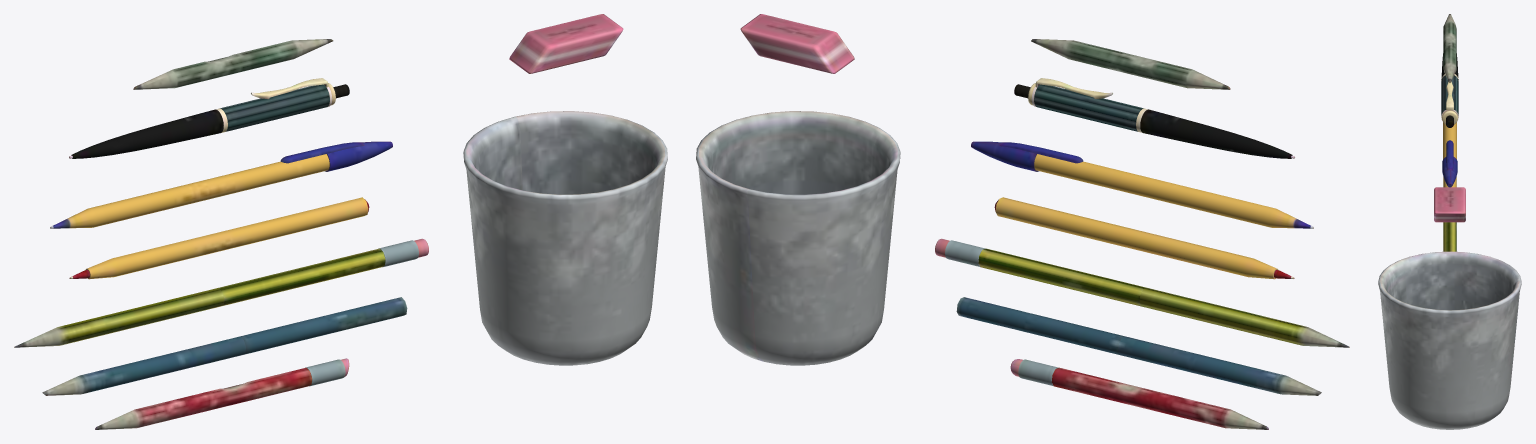
Rendered from stationery.glb.
3 renders of one model, left to right at view 1: azimuth 30°, elevation 25°; view 2: azimuth 150°, elevation 25°; view 3: azimuth 270°, elevation 25°, orthographic. The views are drawn at different scales.
Parts seen in each view (by area): view 1: stationery_supplies_pencilcup, stationery_supplies_pencil_new_a, stationery_supplies_pencil_new_b, stationery_supplies_pen_blue, stationery_supplies_pen_fancy, stationery_supplies_pen_red, stationery_supplies_pencil_used, stationery_supplies_eraser, stationery_supplies_pencil_old; view 2: stationery_supplies_pencilcup, stationery_supplies_pencil_new_a, stationery_supplies_pencil_new_b, stationery_supplies_pen_blue, stationery_supplies_pen_fancy, stationery_supplies_pen_red, stationery_supplies_pencil_used, stationery_supplies_eraser, stationery_supplies_pencil_old; view 3: stationery_supplies_pencilcup, stationery_supplies_eraser, stationery_supplies_pen_fancy, stationery_supplies_pen_blue, stationery_supplies_pencil_old, stationery_supplies_pencil_new_a.
Part boxes in pixels (box(x1,y1,x2,y2)): stationery_supplies_pencilcup: box(463, 111, 667, 365); stationery_supplies_pencil_new_a: box(14, 238, 428, 347); stationery_supplies_pencil_new_b: box(42, 297, 407, 395); stationery_supplies_pen_blue: box(50, 141, 392, 228); stationery_supplies_pen_fancy: box(69, 78, 349, 158); stationery_supplies_pen_red: box(69, 197, 369, 279); stationery_supplies_pencil_used: box(95, 358, 349, 429); stationery_supplies_eraser: box(509, 14, 623, 73); stationery_supplies_pencil_old: box(133, 39, 333, 89); stationery_supplies_pencilcup: box(696, 111, 900, 365); stationery_supplies_pencil_new_a: box(935, 238, 1349, 347); stationery_supplies_pencil_new_b: box(956, 297, 1321, 395); stationery_supplies_pen_blue: box(971, 141, 1313, 228); stationery_supplies_pen_fancy: box(1014, 78, 1294, 158); stationery_supplies_pen_red: box(994, 197, 1294, 279); stationery_supplies_pencil_used: box(1010, 359, 1268, 429); stationery_supplies_eraser: box(740, 14, 854, 73); stationery_supplies_pencil_old: box(1031, 39, 1230, 89); stationery_supplies_pencilcup: box(1378, 251, 1521, 429); stationery_supplies_eraser: box(1434, 187, 1465, 222); stationery_supplies_pen_fancy: box(1441, 53, 1458, 127); stationery_supplies_pen_blue: box(1442, 122, 1457, 187); stationery_supplies_pencil_old: box(1443, 14, 1456, 82); stationery_supplies_pencil_new_a: box(1443, 222, 1456, 251).
Bounding box in the file's own units: 0.3019 × 0.1643 × 0.0837.
Materials: 1 (1 with a texture image).
